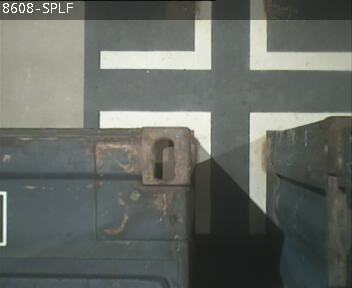groundmarker_1: (99, 110, 352, 233), (100, 1, 352, 69)
